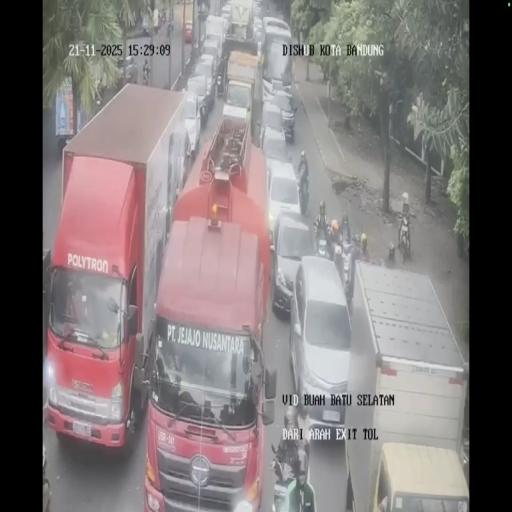3: (46, 82, 194, 454), (335, 258, 468, 509), (224, 52, 258, 131), (202, 14, 227, 64)
car: (271, 209, 315, 318), (260, 122, 290, 176), (182, 92, 202, 153), (262, 70, 294, 108), (194, 52, 216, 98), (262, 16, 292, 49), (252, 16, 264, 47), (220, 2, 232, 31), (252, 0, 262, 19)
truck: (398, 214, 412, 261), (331, 240, 345, 284), (313, 218, 329, 256), (126, 66, 136, 85), (158, 10, 167, 30), (166, 23, 172, 40)
